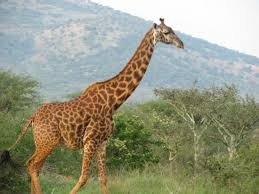giraffe: (8, 15, 186, 194)
